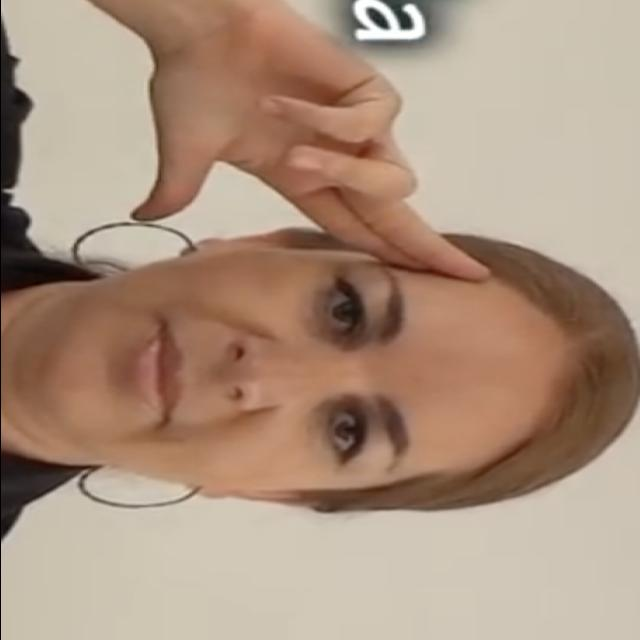hola: (136, 48, 518, 284)
